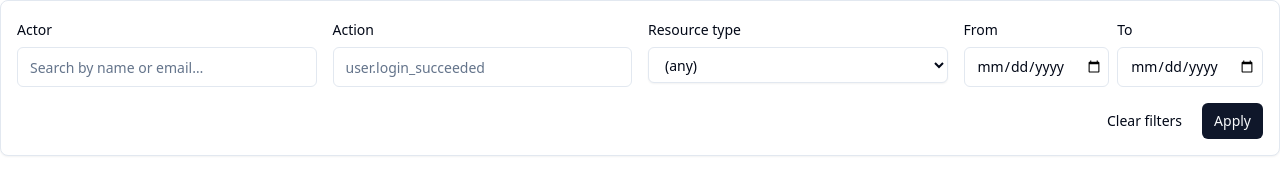
it: AuditFilters › action combobox › shows a loading placeholder while the actions query is pending
Click the dropdown named "Action filter".
click(482, 67)  # box [332,47,632,87]
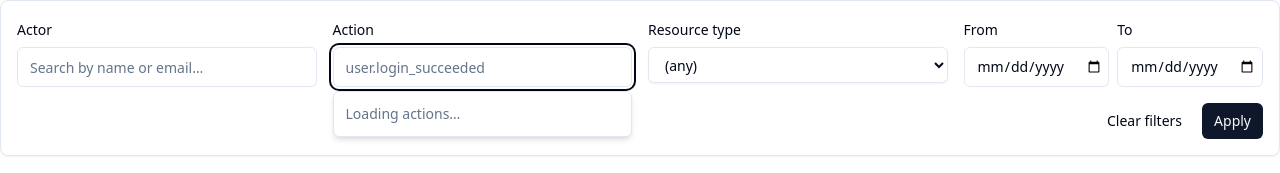
Check: the list item "Loading actions…" is shown, box [346,104,460,123]
